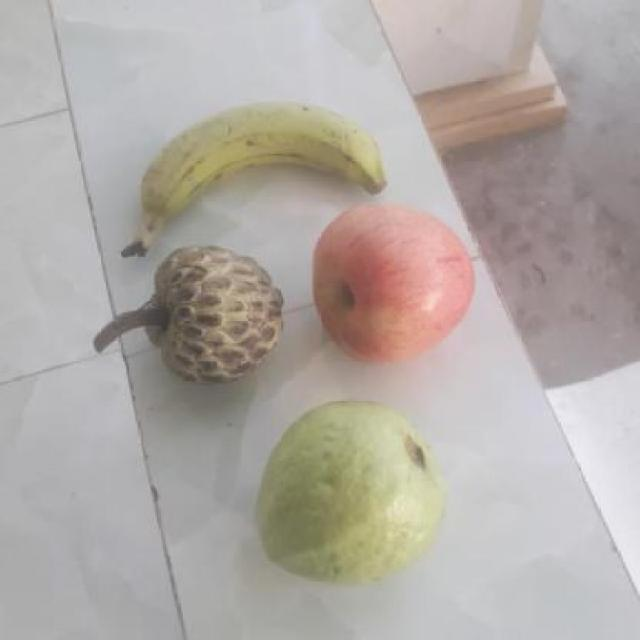apple: (307, 201, 478, 361)
banana: (129, 101, 405, 257)
guava: (260, 400, 452, 583)
sugar apple: (148, 246, 289, 386)
